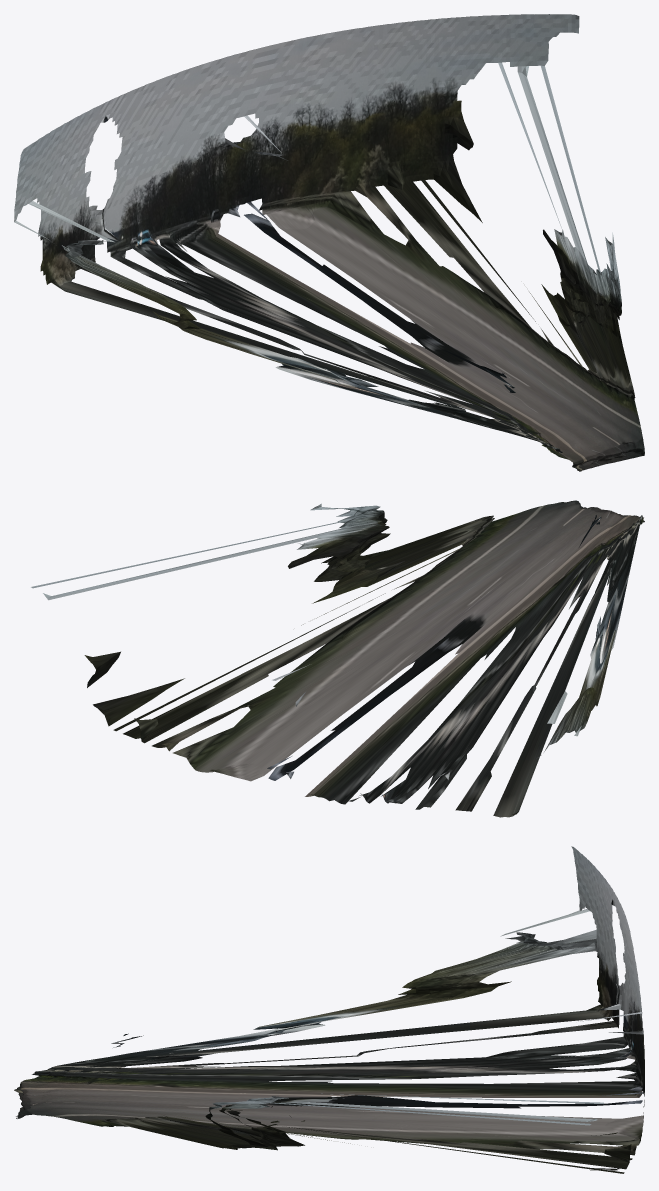
3 views of the same model, one above another, from view 1: azimuth 30°, elevation 25°; view 2: azimuth 150°, elevation 25°; view 3: azimuth 270°, elevation 25° (orthographic). The views are drawn at different scales.
Parts seen in each view (by area): view 1: defaultobject; view 2: defaultobject; view 3: defaultobject.
Boxes of the visible parts, x1,y1,x2,y2 form: defaultobject: [14, 14, 644, 471]; defaultobject: [31, 500, 644, 817]; defaultobject: [14, 846, 644, 1173].
Bounding box in the file's own units: 40.88 × 12.46 × 44.46.
Materials: 1 (1 with a texture image).
